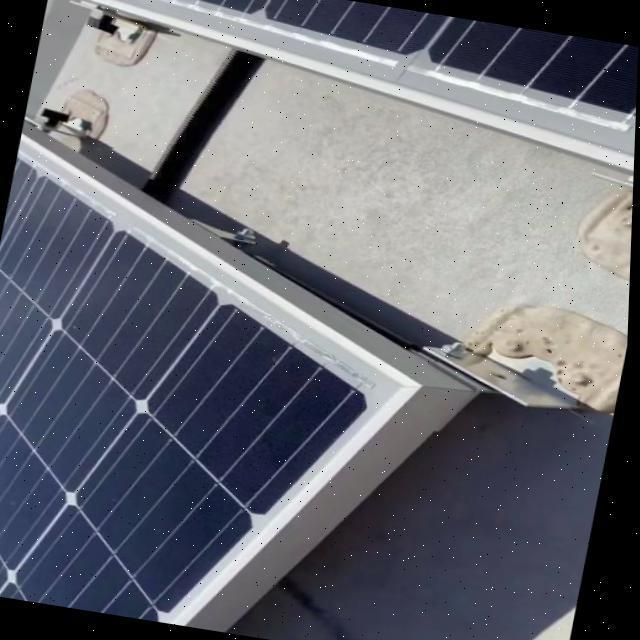Normal Solar Panel: (0, 129, 456, 640), (30, 0, 640, 174)
